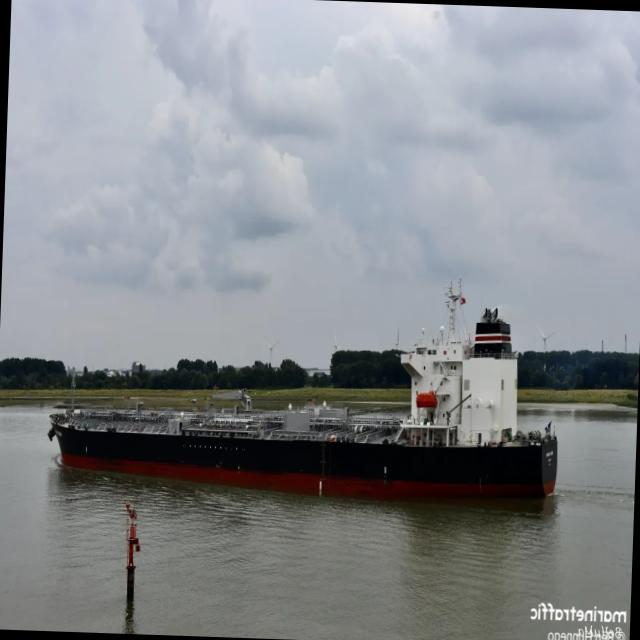Tanker: (48, 285, 557, 498)
